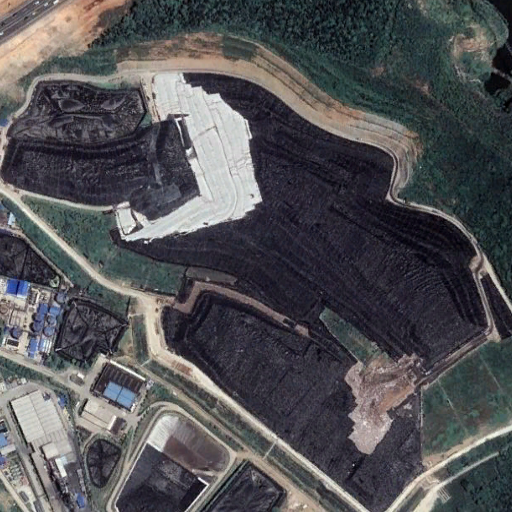lf: (122, 56, 512, 511)
